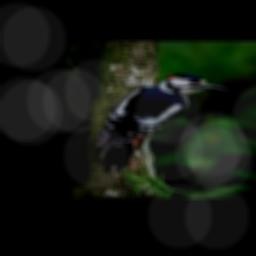Woodpecker: (95, 73, 228, 174)
